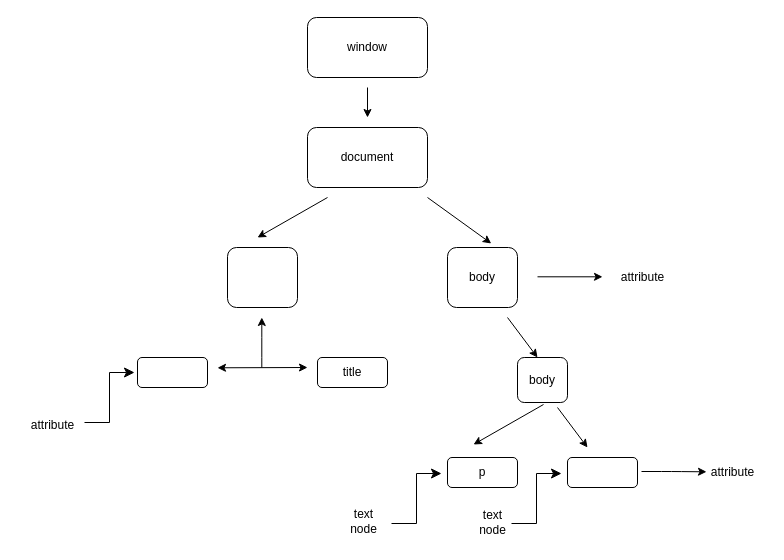
The diagram is 784 pixels wide and 560 high, and some of its shapes have lost their labels. The centre of each missing label's shape, as x and y in pixels:
h2: the point at 602,472
head: the point at 262,277
meta: the point at 172,372
